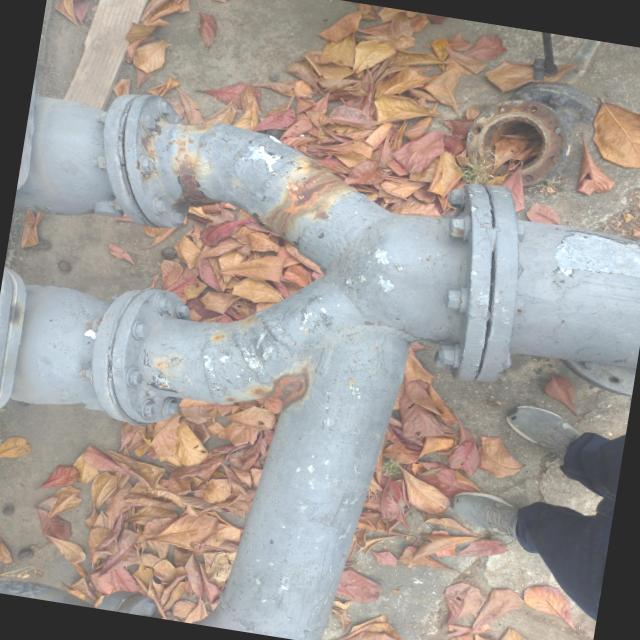gas: (0, 98, 640, 640)
